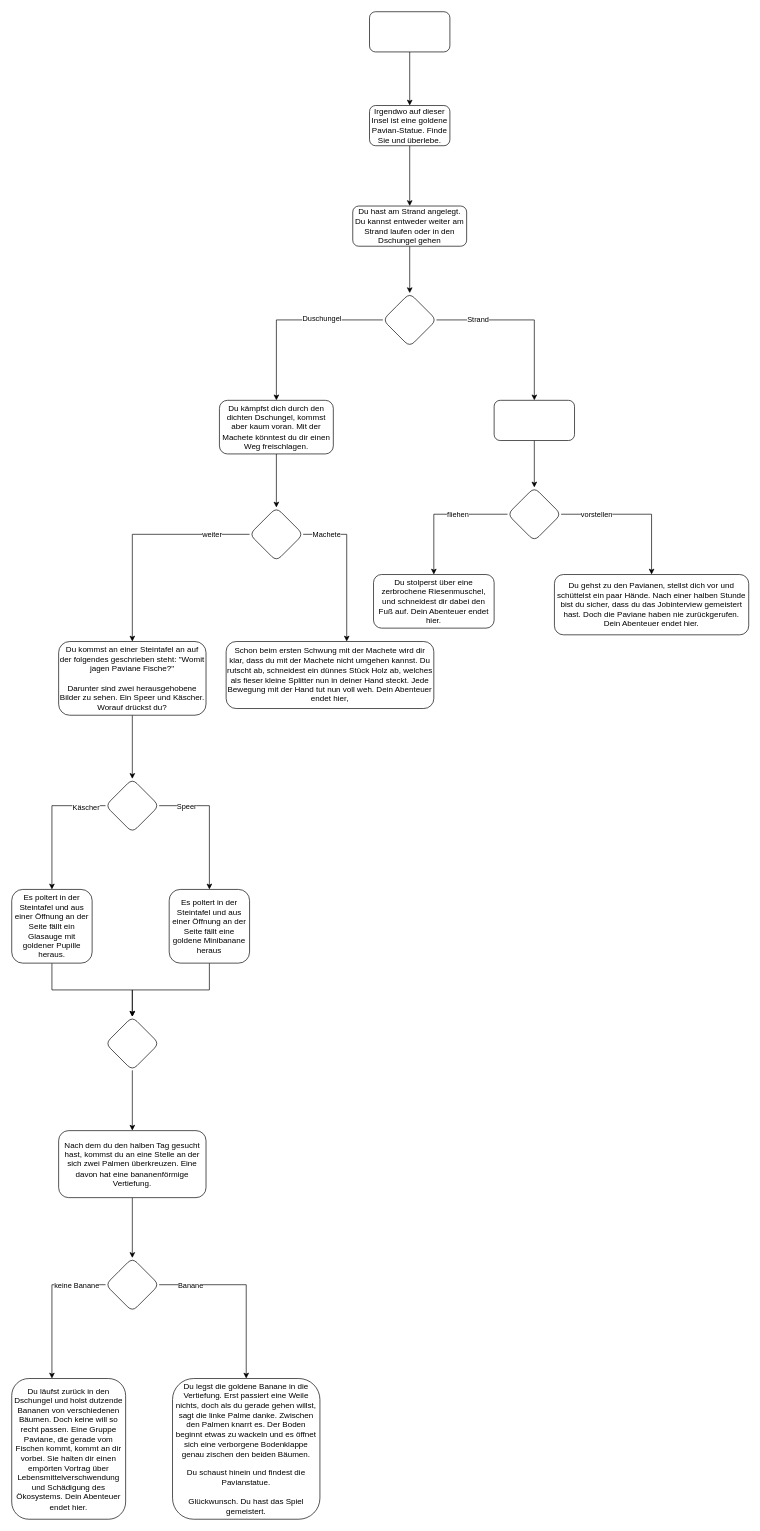
Image size: 760x1531. Some labels were removed from this diagram. The shapes that lost their labels are listed below. From the top down, each one's centre as x and y in pixels, then its label:
At (x=409, y=31): "Willkommen auf Baboon Island".
At (x=534, y=420): "Du triffst auf eine Gruppe Paviane, die am Speerfischen sind. Was tust du?".
